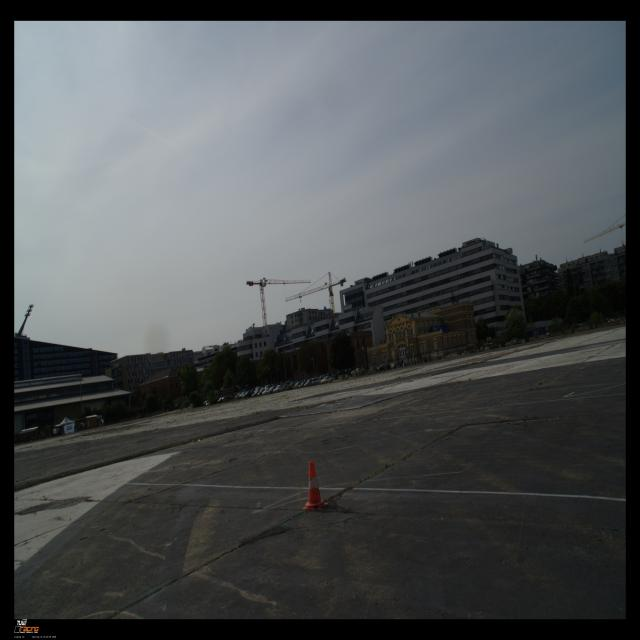orange_cone: (302, 461, 328, 510)
